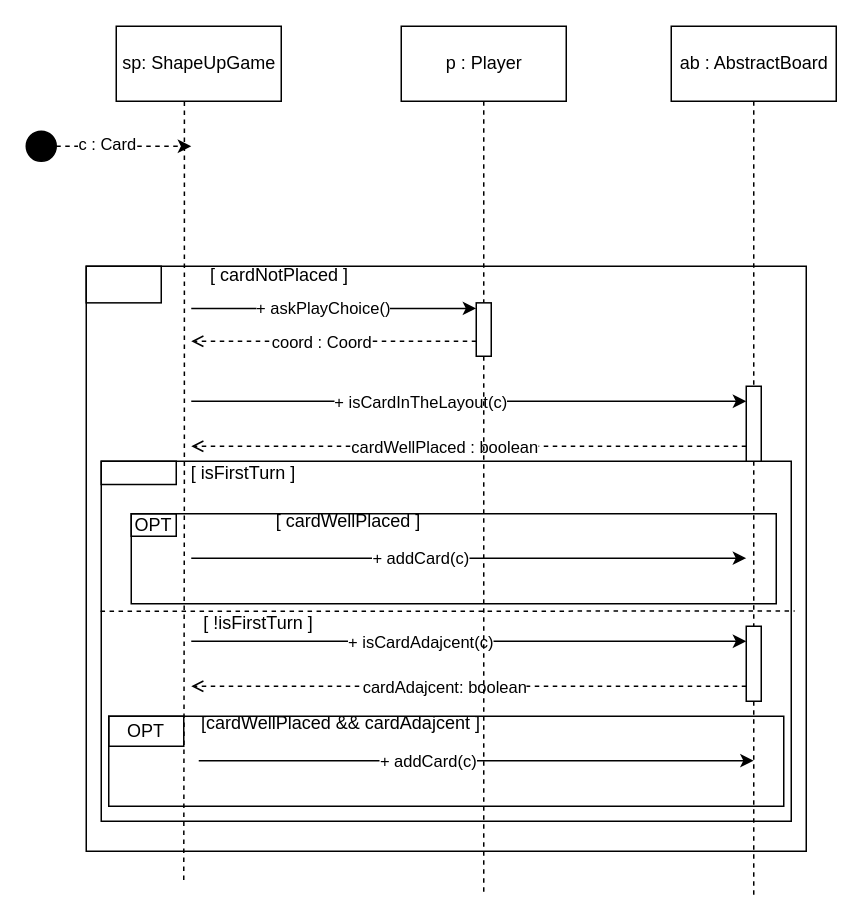
The diagram is 863 pixels wide and 924 high, and some of its shapes have lost their labels. Here are the shapes that lost their labels. From the top down, the centre of each, then its label:
point (123, 284): LOOP
point (138, 472): ALT
